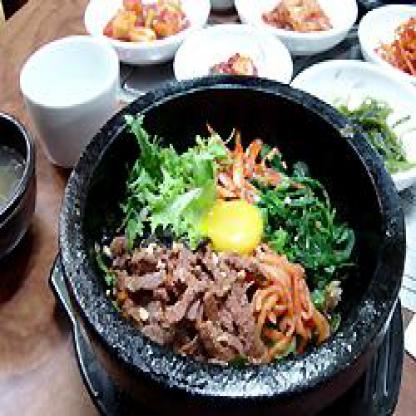bibimbap: (97, 102, 372, 398)
